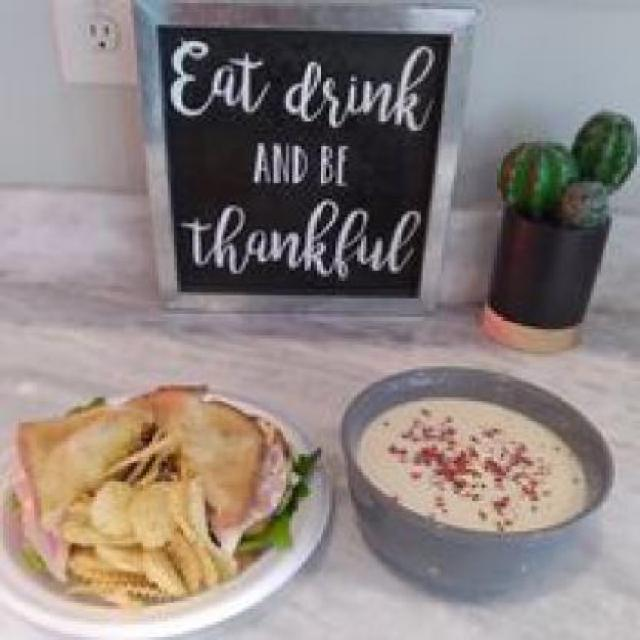clam chowder: (345, 370, 593, 544)
club sandwich: (12, 379, 283, 538)
